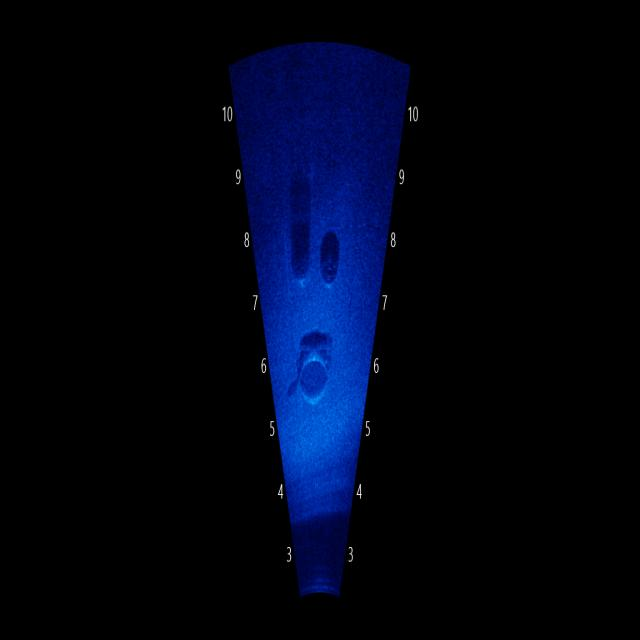circle: (287, 336, 344, 412), (316, 235, 346, 296), (292, 236, 318, 301)
